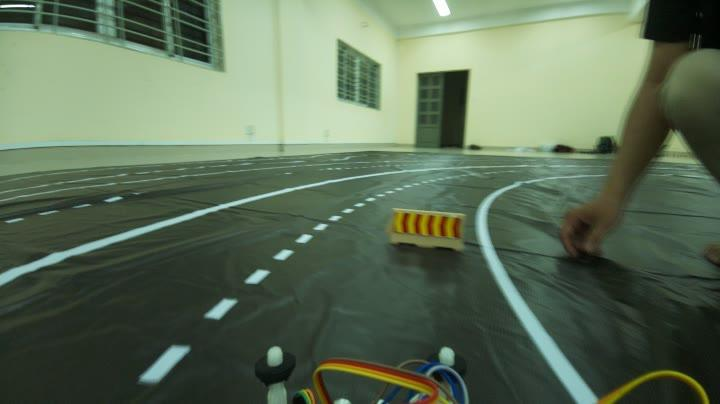roadblock: (386, 197, 470, 254)
